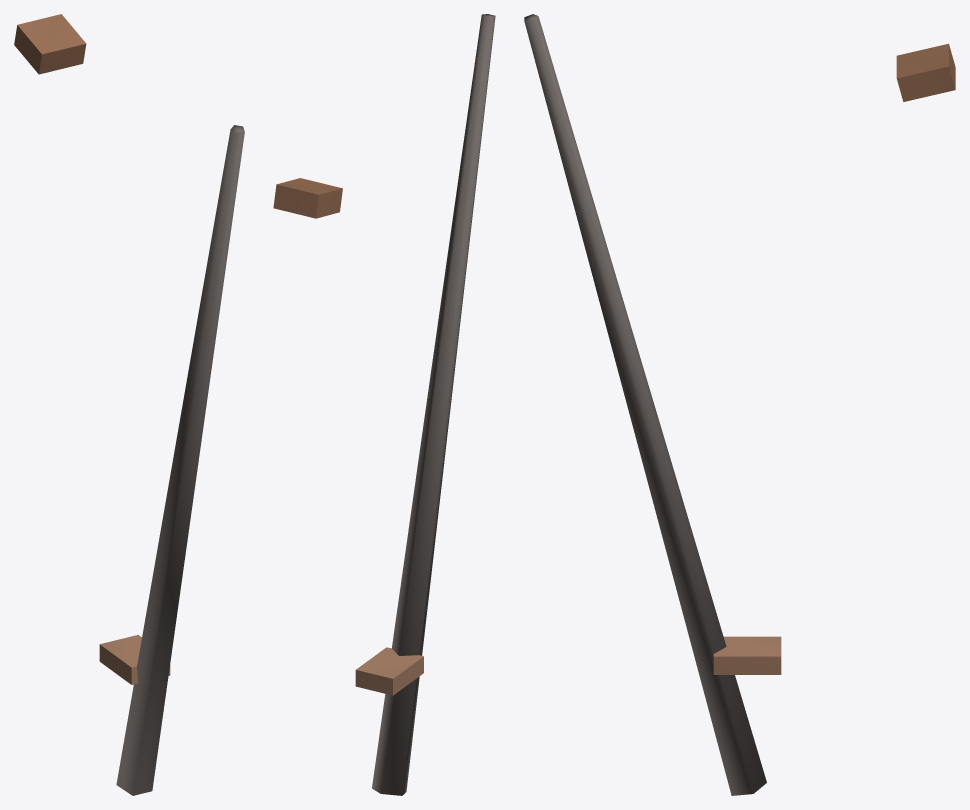
The model's file is iron_stake.glb.
The picture shows the model from 3 angles, left to right: view 1: azimuth 30°, elevation 25°; view 2: azimuth 150°, elevation 25°; view 3: azimuth 270°, elevation 25°; orthographic projection. The views are drawn at different scales.
Visible parts, largest first — view 1: iron_stake; view 2: iron_stake; view 3: iron_stake.
Boxes of the visible parts, box(x1,y1,x2,y2) form: iron_stake: box(14, 14, 244, 795); iron_stake: box(273, 14, 495, 795); iron_stake: box(524, 14, 955, 795).
Bounding box in the file's own units: 0.08 × 1.27 × 0.6398.
